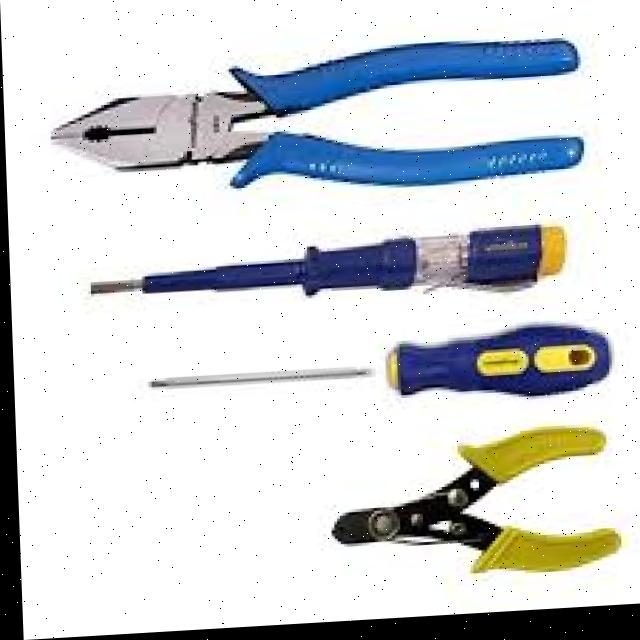Screwdriver: (126, 334, 602, 401), (88, 233, 560, 299)
